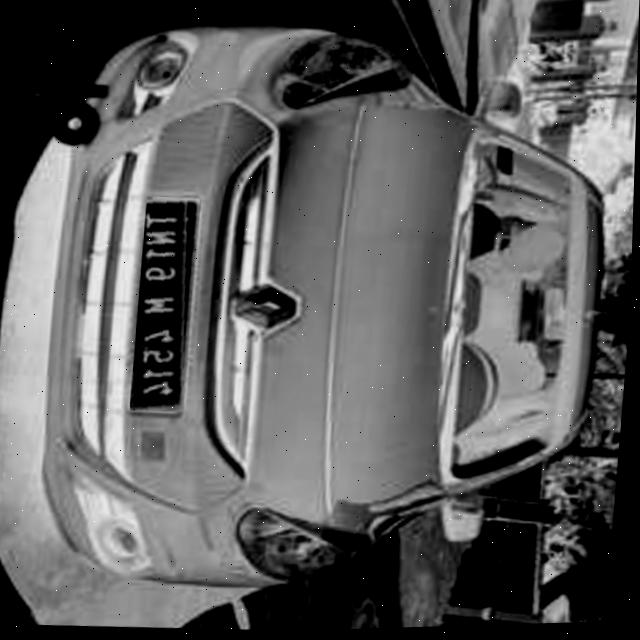Non_registered: (131, 197, 200, 414)
